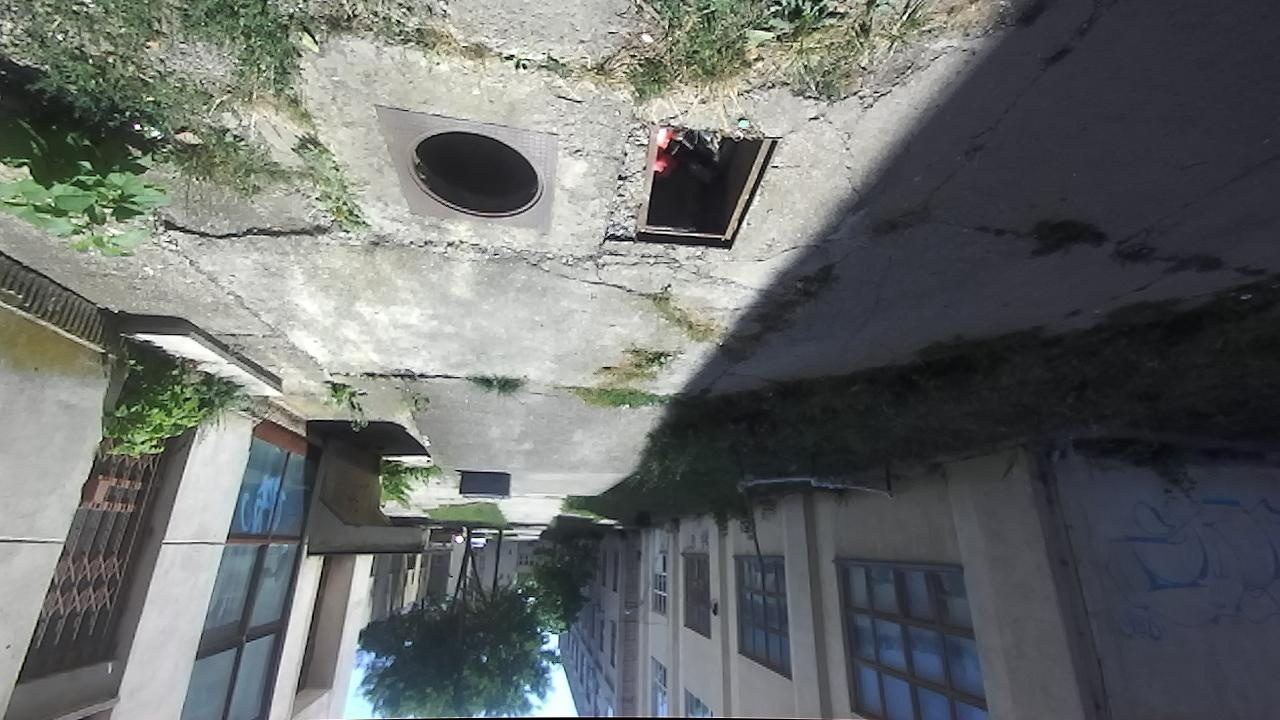drain: (629, 124, 789, 252), (394, 123, 551, 224)
